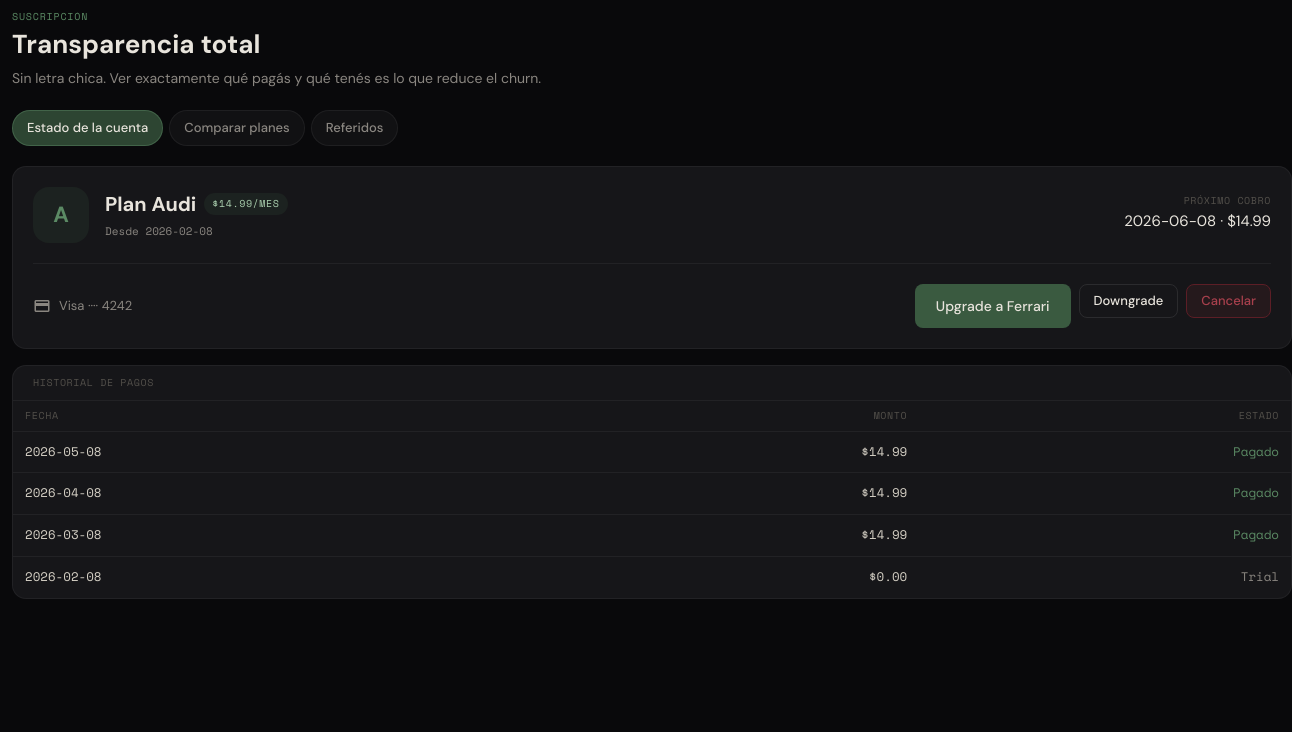
it: Subscription › shows the referral link and stats
What coordinates should you click on to do the following:
click the tab "Referidos"
I would click on:
 (355, 128)
Its box is top-left (311, 110), bottom-right (398, 146).
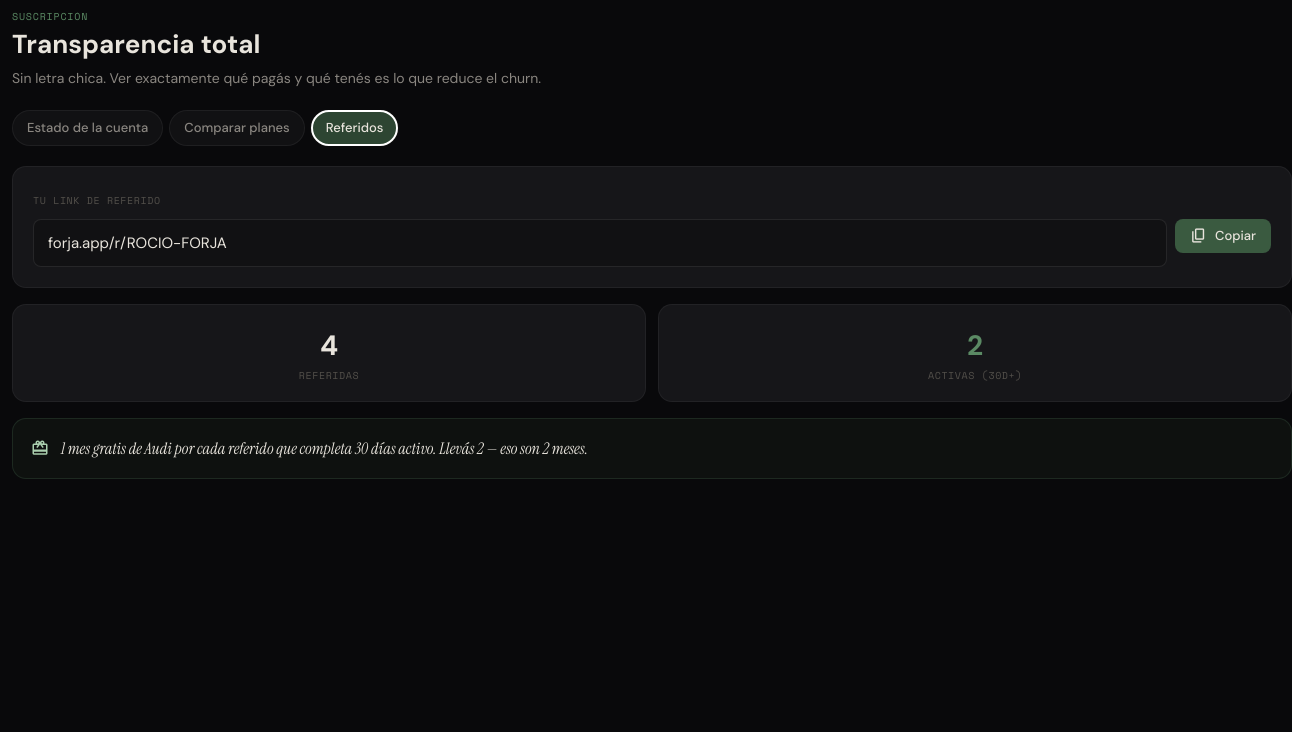
Now the field showing "forja.app/r/ROCIO-FORJA" is shown, box top-left (33, 219), bottom-right (1167, 267)
Now the button "Copiar" is shown, box top-left (1175, 219), bottom-right (1271, 253)
Now the text "Referidas" is shown, box top-left (299, 368), bottom-right (359, 383)
